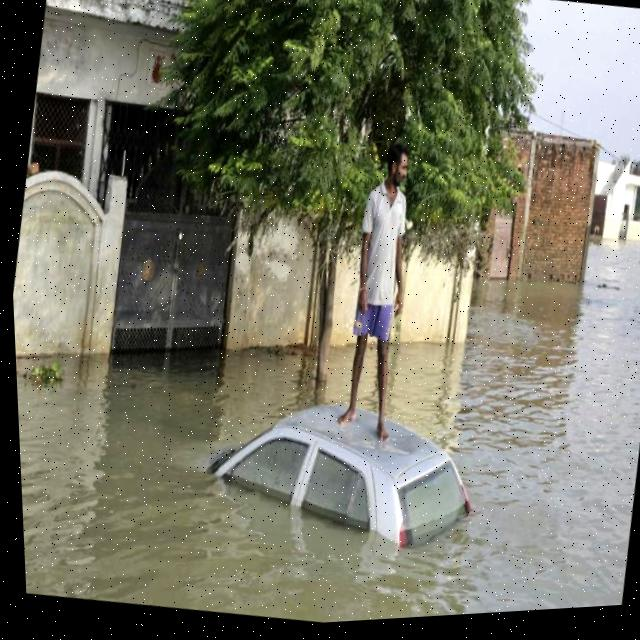civilian: (311, 127, 448, 452)
